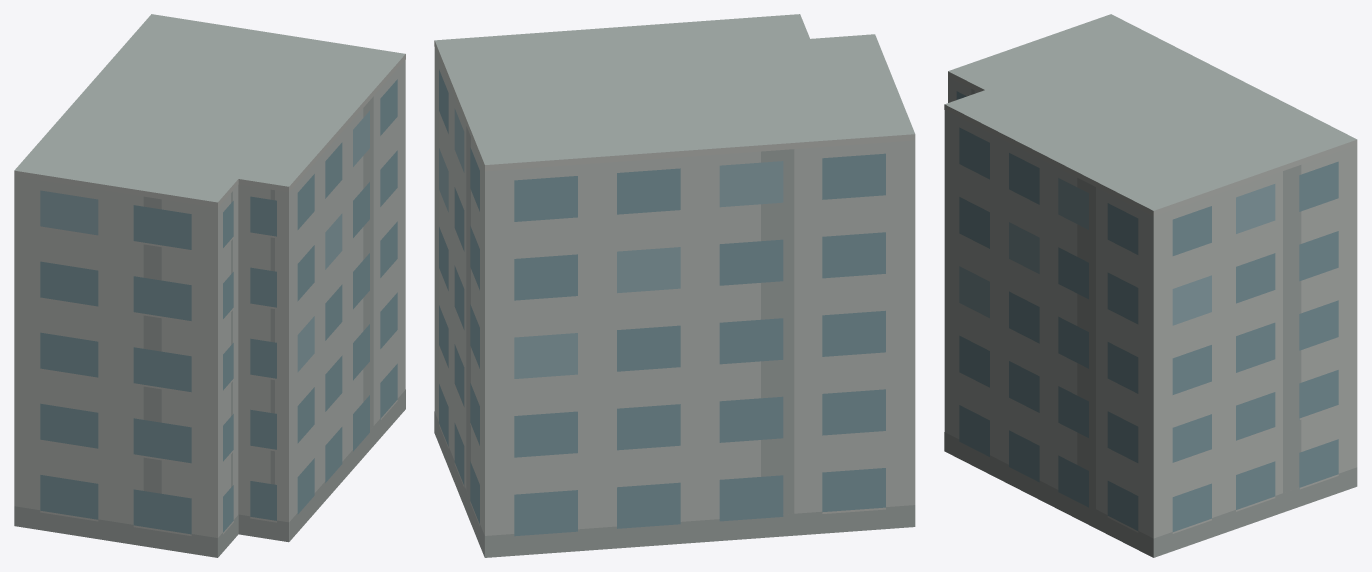
Rendered from residential-1ee9457c-7c56-4eb9-adba-72924b506c03.glb.
3 views of the same model, side by side, from view 1: azimuth 30°, elevation 25°; view 2: azimuth 150°, elevation 25°; view 3: azimuth 270°, elevation 25° (orthographic). The views are drawn at different scales.
Visible parts, largest first — view 1: residential-1ee9457c-7c56-4eb9-adba-72924b506c03.tmp; view 2: residential-1ee9457c-7c56-4eb9-adba-72924b506c03.tmp; view 3: residential-1ee9457c-7c56-4eb9-adba-72924b506c03.tmp.
Boxes of the visible parts, x1,y1,x2,y2 form: residential-1ee9457c-7c56-4eb9-adba-72924b506c03.tmp: (14,14,405,557); residential-1ee9457c-7c56-4eb9-adba-72924b506c03.tmp: (434,14,915,557); residential-1ee9457c-7c56-4eb9-adba-72924b506c03.tmp: (944,14,1357,557).
Bounding box in the file's own units: 18.57 × 15.25 × 16.45.
